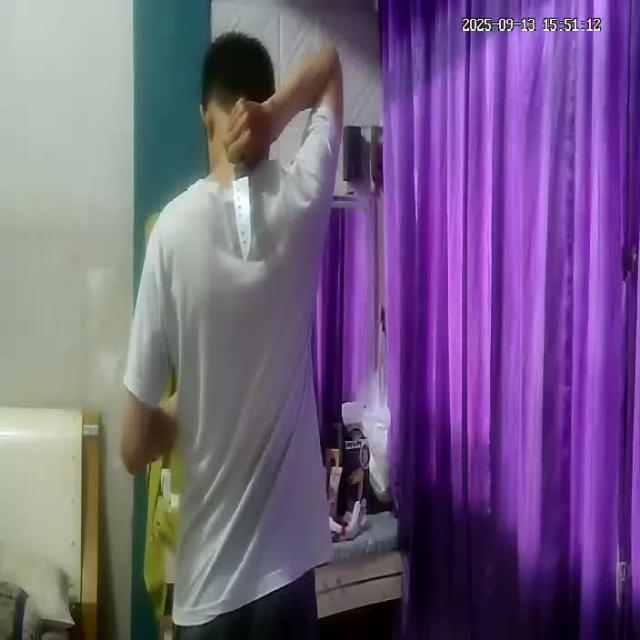senjata_tajam: (232, 163, 253, 267)
